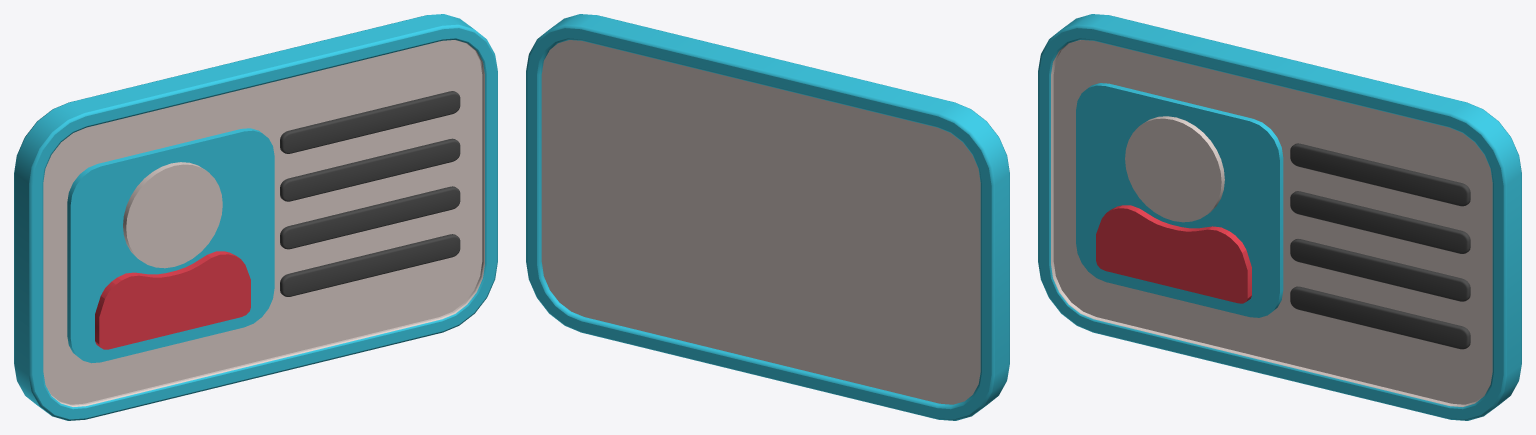
Rendered from license.glb.
The picture shows the model from 3 angles, left to right: view 1: azimuth 30°, elevation 25°; view 2: azimuth 150°, elevation 25°; view 3: azimuth 330°, elevation 25°; orthographic projection.
Visible parts, largest first — view 1: Cube.002; view 2: Cube.002; view 3: Cube.002.
Part boxes in pixels (left/top/right/bottom): Cube.002: left=14, top=14, right=497, bottom=420; Cube.002: left=526, top=14, right=1009, bottom=420; Cube.002: left=1038, top=14, right=1521, bottom=420.
Bounding box in the file's own units: 4.93 × 3.08 × 0.4051.
